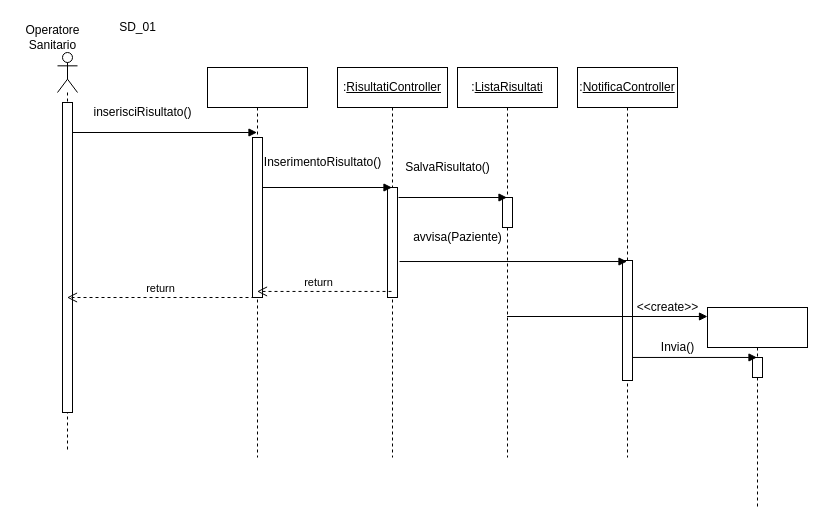
Image size: 825x525. Some labels were removed from this diagram. The centre of each missing label's shape, as x and y in pixels:
": FormRisultato" belongs at (257,262).
": Notifica" belongs at (757,407).
